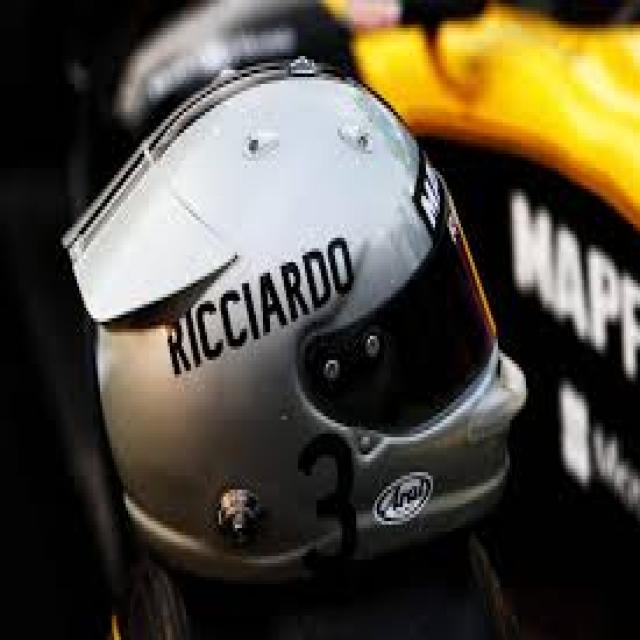Helmet: (83, 70, 509, 500)
